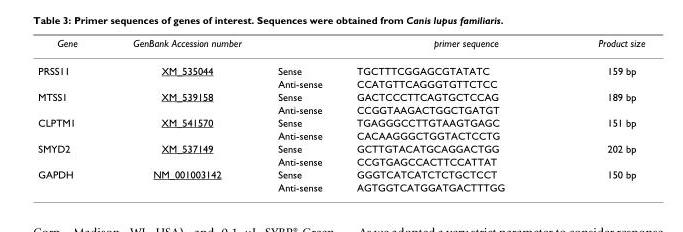table: (37, 36, 644, 192)
table column: (338, 36, 550, 192), (104, 36, 258, 192), (550, 36, 644, 192), (258, 36, 338, 192), (37, 36, 104, 192)
table column header: (37, 36, 644, 56)
table row: (37, 56, 644, 77), (37, 36, 644, 56), (37, 89, 644, 102), (37, 102, 644, 115), (37, 115, 644, 128), (37, 128, 644, 141), (37, 141, 644, 154), (37, 154, 644, 167), (37, 167, 644, 180), (37, 77, 644, 89), (37, 180, 644, 192)
table spanning cell: (37, 56, 104, 89), (37, 89, 104, 115), (37, 115, 104, 141), (37, 141, 104, 167), (37, 167, 104, 192)
